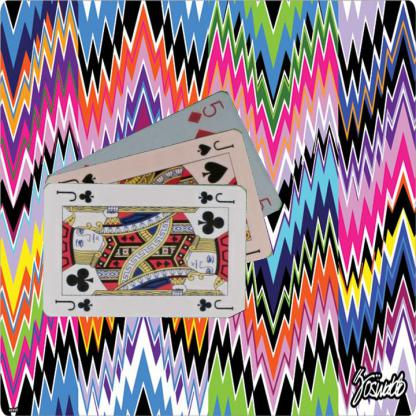5d: (185, 96, 226, 125)
Jc: (196, 188, 236, 205), (53, 296, 94, 312)
Js: (195, 137, 236, 157)
